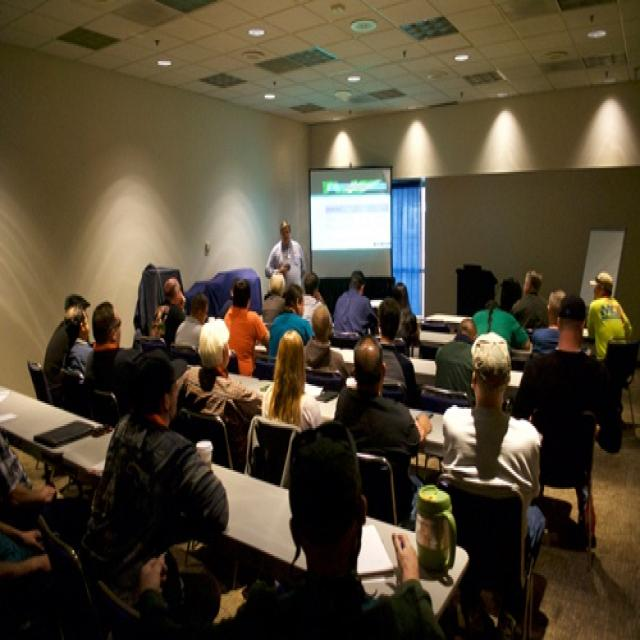body: (136, 418, 444, 640), (77, 352, 233, 610), (510, 290, 624, 550), (439, 330, 547, 586), (331, 332, 434, 535), (174, 314, 266, 480), (0, 416, 61, 636), (81, 298, 143, 420), (261, 328, 323, 434), (375, 296, 429, 415), (44, 292, 92, 403), (222, 275, 272, 378), (585, 269, 635, 363), (266, 281, 318, 363), (302, 302, 351, 382), (470, 294, 532, 357), (262, 216, 308, 296), (434, 317, 477, 399), (331, 268, 379, 334), (146, 275, 187, 344), (63, 304, 96, 384), (530, 287, 567, 357), (511, 270, 552, 330), (174, 291, 209, 354), (299, 269, 333, 327), (261, 270, 288, 330), (394, 281, 415, 334), (220, 279, 236, 319)
